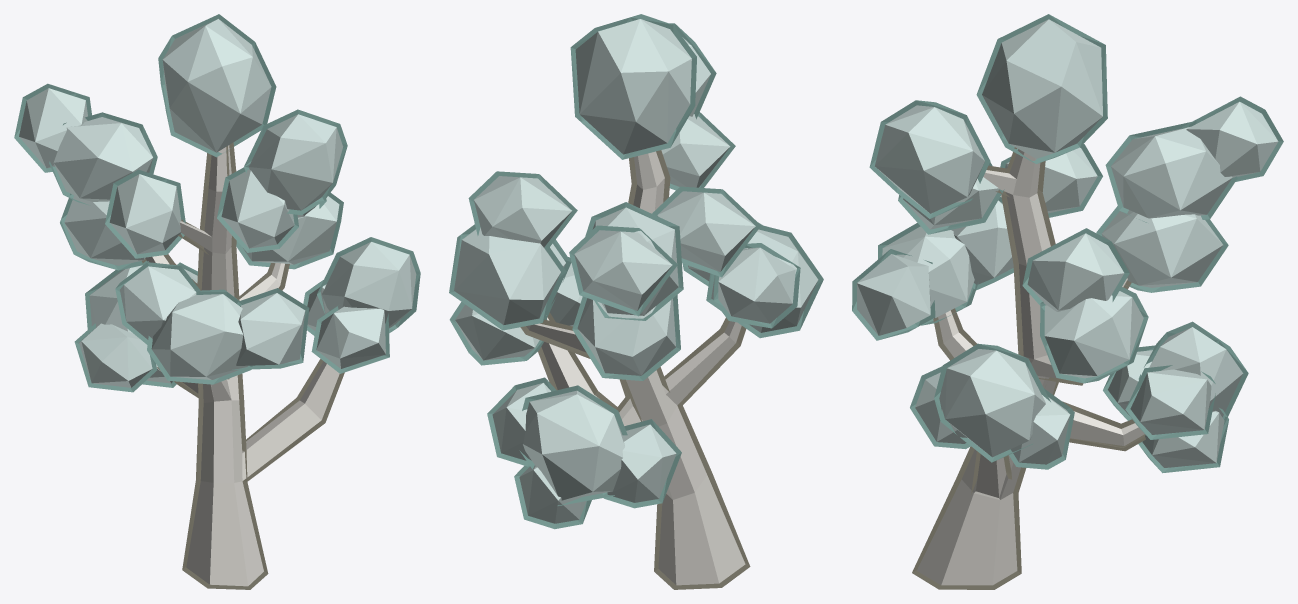
File: tree-new-lit.glb
The picture shows the model from 3 angles, left to right: view 1: azimuth 30°, elevation 25°; view 2: azimuth 150°, elevation 25°; view 3: azimuth 270°, elevation 25°; orthographic projection. The views are drawn at different scales.
Parts seen in each view (by area): view 1: mergedFoliage.001, mergedFoliage.002, mergedTrunks.001; view 2: mergedFoliage.001, mergedFoliage.002, mergedTrunks.001; view 3: mergedFoliage.001, mergedFoliage.002, mergedTrunks.001.
Part boxes in pixels (left/top/right/bottom): mergedFoliage.001: left=19, top=19, right=416, bottom=387; mergedFoliage.002: left=14, top=14, right=420, bottom=589; mergedTrunks.001: left=145, top=145, right=339, bottom=586; mergedFoliage.001: left=454, top=19, right=818, bottom=523; mergedFoliage.002: left=449, top=14, right=823, bottom=589; mergedTrunks.001: left=526, top=151, right=745, bottom=585; mergedFoliage.001: left=857, top=19, right=1278, bottom=467; mergedFoliage.002: left=852, top=14, right=1283, bottom=589; mergedTrunks.001: left=917, top=149, right=1144, bottom=585.
Size of the model in its own units: 7.78 by 12.95 by 8.91.
